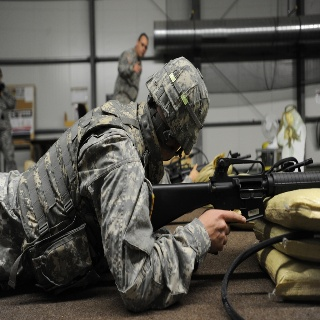rifle: (146, 152, 320, 233)
